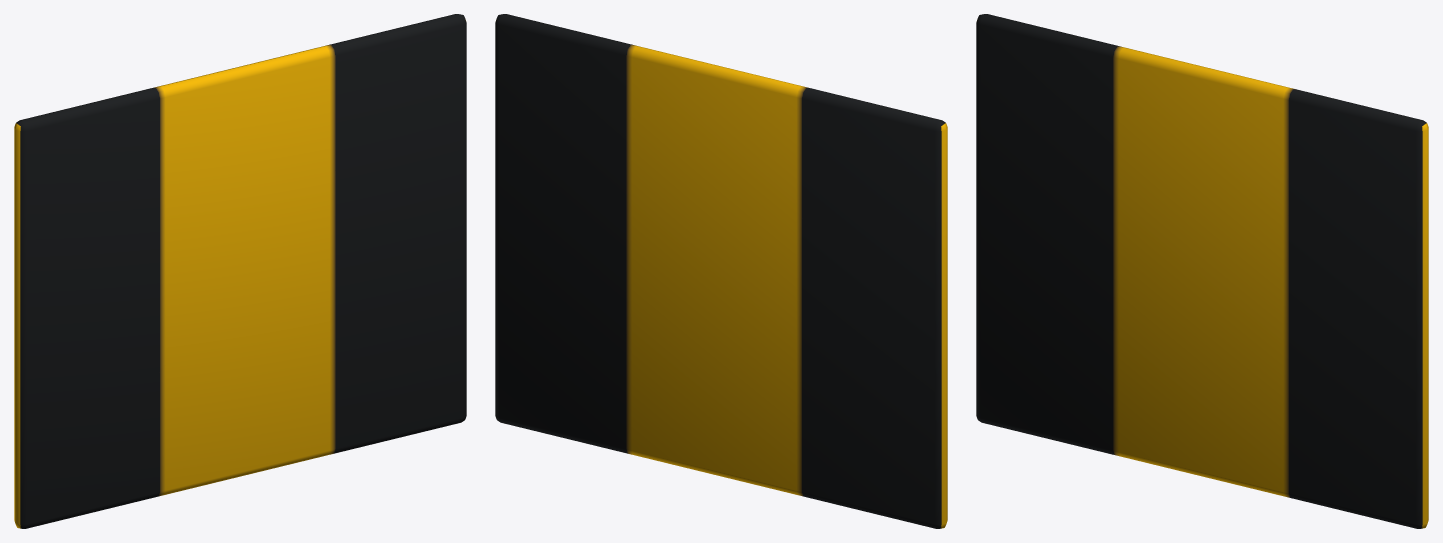
File: WK_SIGN_HAZARD_A_01.glb
The picture shows the model from 3 angles, left to right: view 1: azimuth 30°, elevation 25°; view 2: azimuth 150°, elevation 25°; view 3: azimuth 330°, elevation 25°; orthographic projection.
Visible parts, largest first — view 1: WK_SIGN_HAZARD_A_01; view 2: WK_SIGN_HAZARD_A_01; view 3: WK_SIGN_HAZARD_A_01.
Part boxes in pixels (x1,y1,x2,y2): WK_SIGN_HAZARD_A_01: (14,14,466,528); WK_SIGN_HAZARD_A_01: (495,14,947,528); WK_SIGN_HAZARD_A_01: (976,14,1428,528).
Bounding box in the file's own units: 0.6 × 0.52 × 0.02.
Materials: 1 (1 with a texture image).
